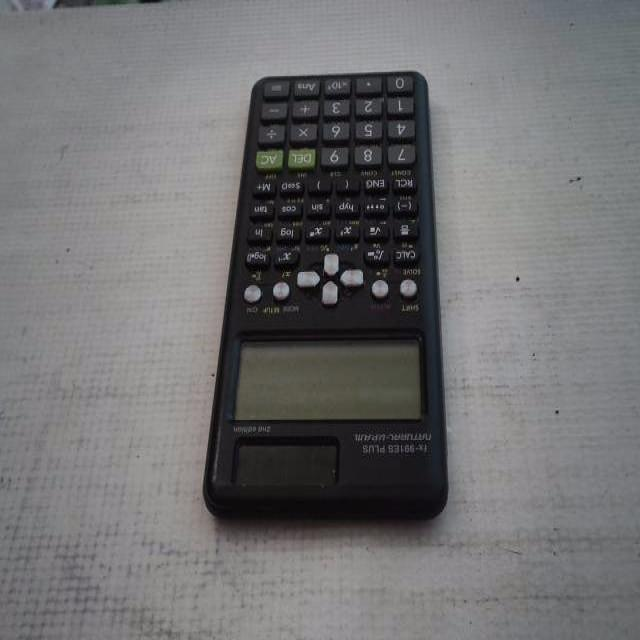Calculator: (200, 67, 451, 526)
